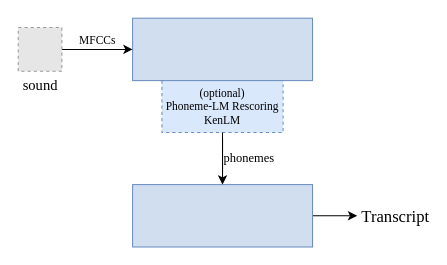
This 447x265 diagram has some shape labels left out. Grey dashed boxes stand in for pictures. The box of each missing label's shape, as (x1, y1, x2, y2) in pixels:
Acoustic Model Jasper: (132, 17, 313, 81)
Phoneme-to-Grapheme Transformer: (132, 184, 313, 247)
